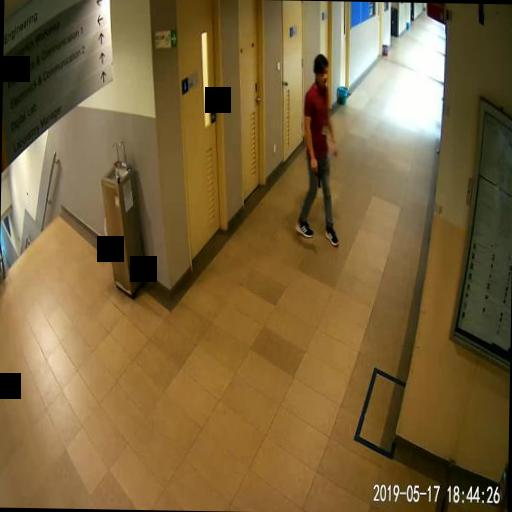Handgun: (310, 157, 321, 187)
